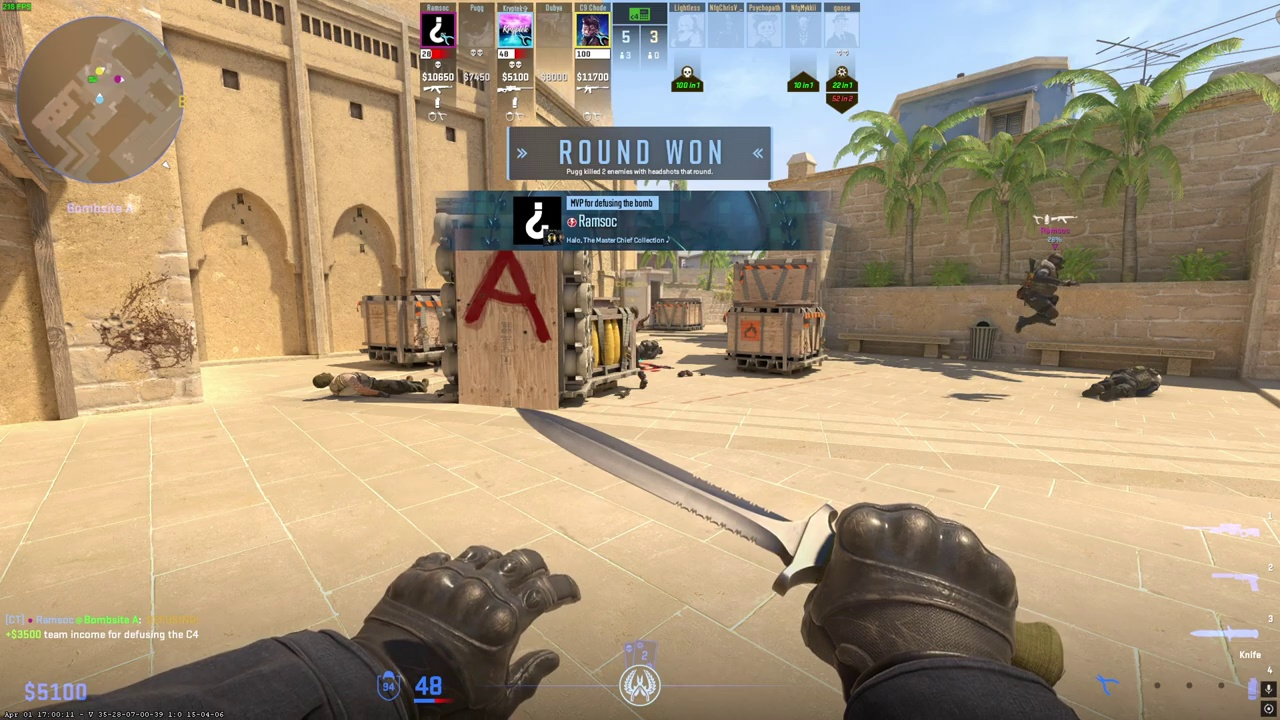CT: (1017, 252, 1066, 333)
